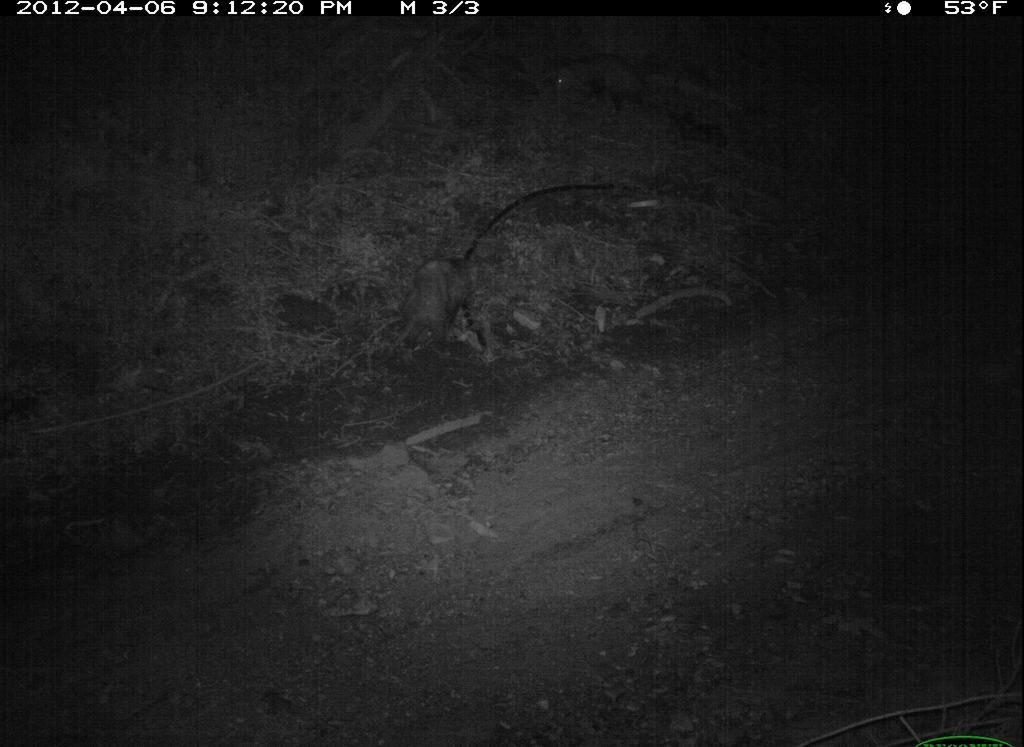opossum: (373, 228, 510, 368), (547, 49, 679, 120)
